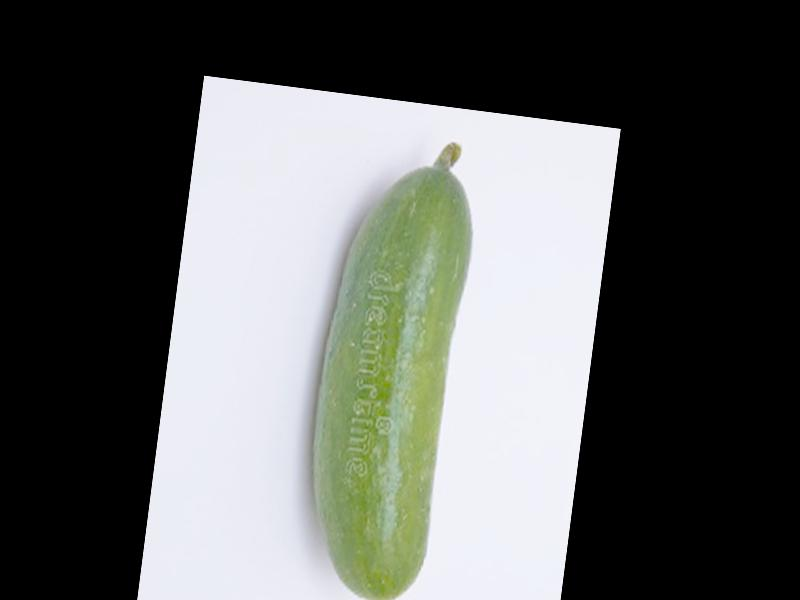Cucumber: (292, 129, 483, 600)
